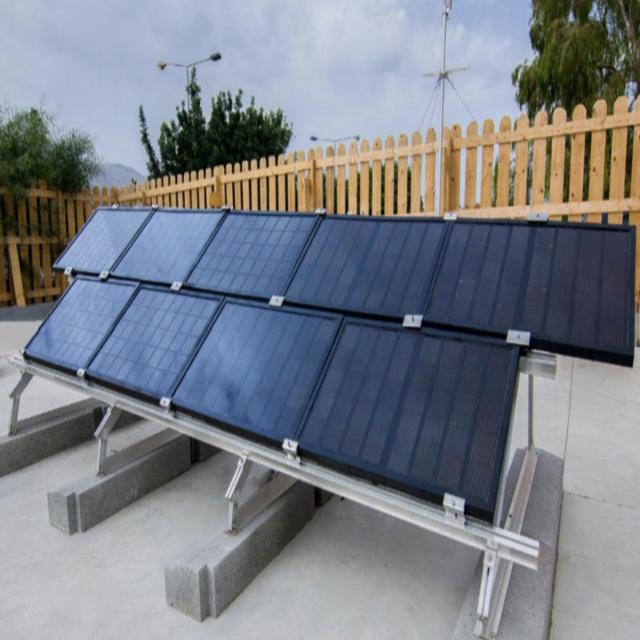clean-solar-panel: (25, 208, 635, 523)
